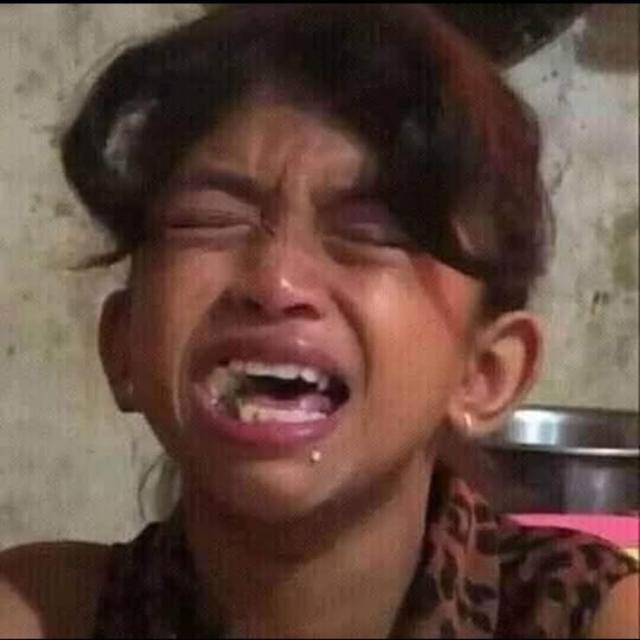sem_oculos: (88, 148, 546, 340)
